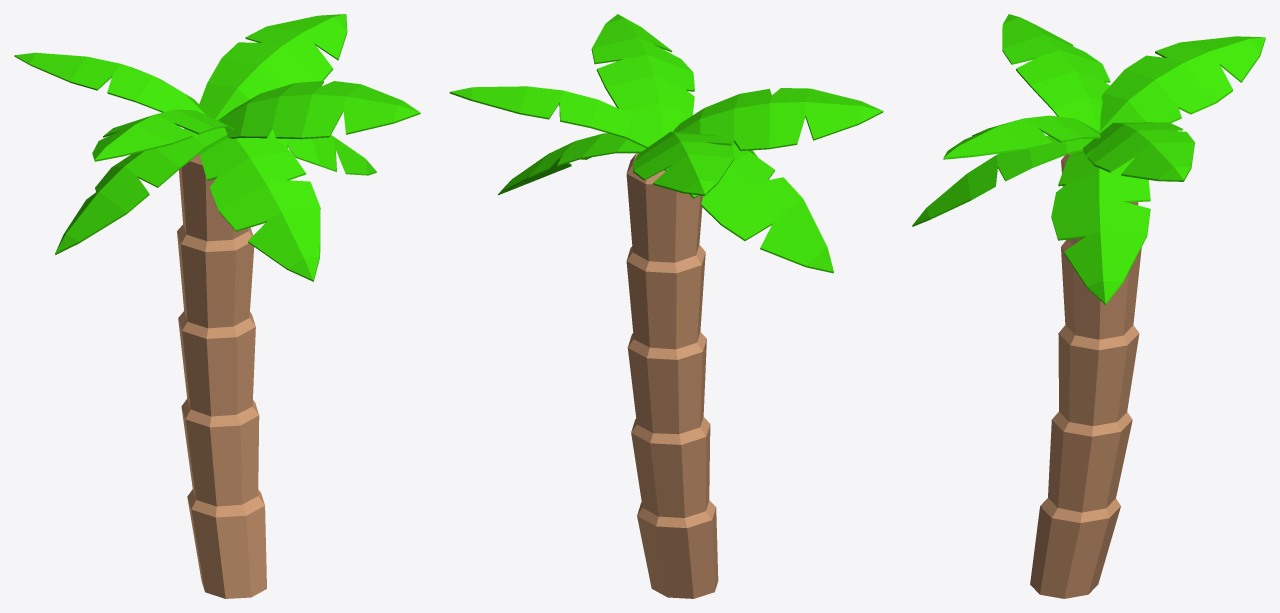
File: palma1.fbx
The picture shows the model from 3 angles, left to right: view 1: azimuth 30°, elevation 25°; view 2: azimuth 150°, elevation 25°; view 3: azimuth 270°, elevation 25°; orthographic projection.
Parts seen in each view (by area): view 1: Cylinder.060; view 2: Cylinder.060; view 3: Cylinder.060.
Boxes of the visible parts, <box> form: Cylinder.060: <box>14,14,420,598</box>; Cylinder.060: <box>449,14,883,598</box>; Cylinder.060: <box>912,14,1265,598</box>.
Size of the model in its own units: 580 by 807 by 520.
